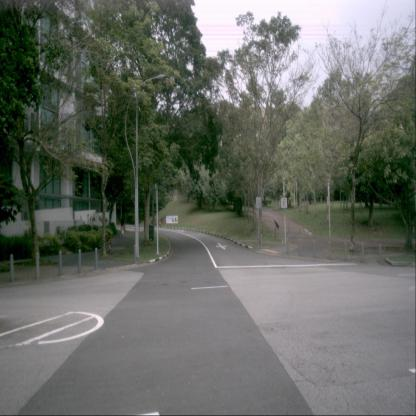human-pedestrian-adult: (121, 215, 126, 238), (150, 220, 154, 236)
vehicle-bicycle: (106, 230, 113, 256)
